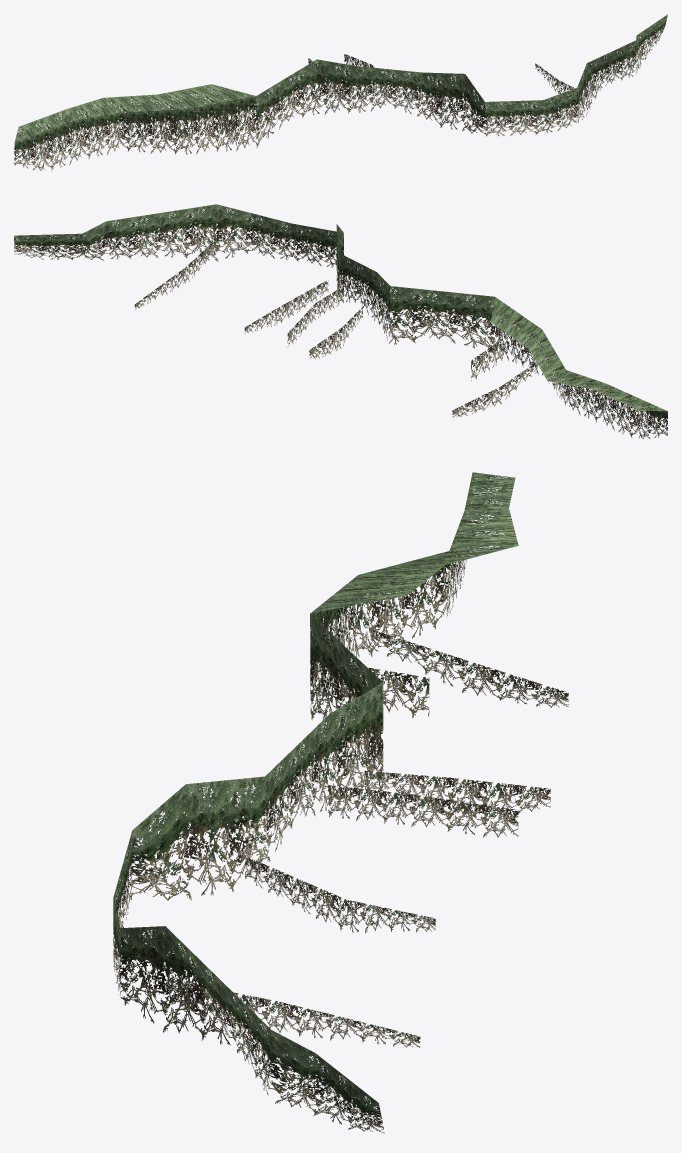
Rendered from cunte_roots01.obj.
3 renders of one model, top to bottom at view 1: azimuth 30°, elevation 25°; view 2: azimuth 150°, elevation 25°; view 3: azimuth 270°, elevation 25°, orthographic. The views are drawn at different scales.
Parts seen in each view (by area): view 1: cunte_roots01; view 2: cunte_roots01; view 3: cunte_roots01.
Part boxes in pixels (left/top/right/bottom): cunte_roots01: left=14, top=14, right=667, bottom=171; cunte_roots01: left=14, top=204, right=667, bottom=438; cunte_roots01: left=113, top=472, right=568, bottom=1133.
Bounding box in the file's own units: 248 × 28.05 × 77.47.
1 material, 1 textured.
